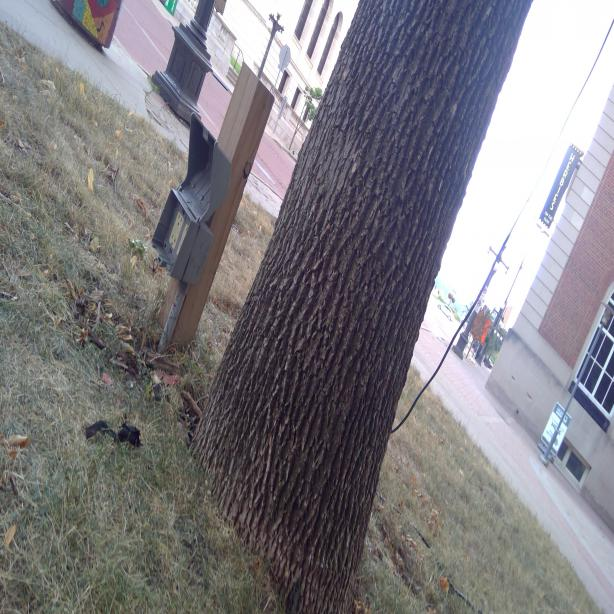typeb: (175, 213, 184, 229), (169, 232, 177, 248)
